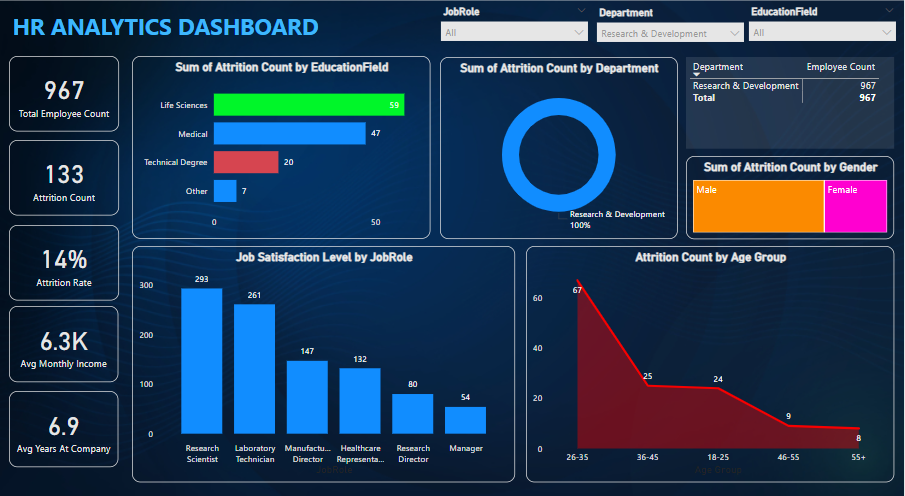

The page's visual inventory and layout, read from the dashboard file:
{"tool":"powerbi","page":{"name":"Page 1","canvas":[1280,720],"ordinal":0},"visuals":[{"type":"donutChart","fields":{"Category":["HR_Analytics.Department"],"Y":["Sum(HR_Analytics.Attrition Count)"]},"box":[623.3,85,336.7,258.3],"z":0},{"type":"barChart","fields":{"Category":["HR_Analytics.EducationField"],"Y":["Sum(HR_Analytics.Attrition Count)"]},"box":[187.1,84.3,422.9,258.6],"z":1000},{"type":"treemap","fields":{"Group":["HR_Analytics.Gender"],"Values":["Sum(HR_Analytics.Attrition Count)"]},"box":[971.7,225,295,118.3],"z":2000},{"type":"card","fields":{"Values":["Sum(HR_Analytics.Attrition Count)"]},"box":[12.9,202.9,155.7,107.1],"z":3000},{"type":"card","fields":{"Values":["HR_Analytics.Attrition Rate"]},"box":[12.9,322.9,155.7,107.1],"z":4000},{"type":"card","fields":{"Values":["Sum(HR_Analytics.EmployeeCount)"]},"box":[12.9,84.3,155.7,107.1],"z":5000},{"type":"card","fields":{"Values":["Avg(HR_Analytics.MonthlyIncome)"]},"box":[13.3,438.3,155,108.3],"z":6000},{"type":"columnChart","fields":{"Category":["HR_Analytics.JobRole"],"Y":["CountNonNull(HR_Analytics.JobSatisfaction)"]},"box":[186.7,353.3,543.3,335],"z":7000},{"type":"card","fields":{"Values":["Avg(HR_Analytics.YearsAtCompany)"]},"box":[13.3,558.3,155,108.3],"z":8000},{"type":"slicer","fields":{"Values":["HR_Analytics.JobRole"]},"box":[615,6.7,228.3,66.7],"z":9000},{"type":"pivotTable","fields":{"Rows":["HR_Analytics.Department"],"Values":["Sum(HR_Analytics.EmployeeCount)"]},"box":[971.7,85,295,130],"z":10000},{"type":"areaChart","fields":{"Category":["HR_Analytics.AgeGroup"],"Y":["Sum(HR_Analytics.Attrition Count)"]},"box":[745,353.3,521.7,335],"z":11000},{"type":"slicer","fields":{"Values":["HR_Analytics.Department"]},"box":[836,8,228,66],"z":12000},{"type":"slicer","fields":{"Values":["HR_Analytics.EducationField"]},"box":[1052,7,228,66],"z":13000},{"type":"textbox","box":[12.9,14.3,461.4,52.9],"z":14000}]}

Visuals, with their boxes in screenshot pixels (x1, y1, x2, y2), scaled from the page's 1280x720 canvas onto the 905x496 screenshot:
donutChart - HR_Analytics.Department x Sum(HR_Analytics.Attrition Count): box(441, 59, 679, 236)
barChart - HR_Analytics.EducationField x Sum(HR_Analytics.Attrition Count): box(132, 58, 431, 236)
treemap - HR_Analytics.Gender x Sum(HR_Analytics.Attrition Count): box(687, 155, 896, 236)
card - Sum(HR_Analytics.Attrition Count): box(9, 140, 119, 214)
card - HR_Analytics.Attrition Rate: box(9, 222, 119, 296)
card - Sum(HR_Analytics.EmployeeCount): box(9, 58, 119, 132)
card - Avg(HR_Analytics.MonthlyIncome): box(9, 302, 119, 377)
columnChart - HR_Analytics.JobRole x CountNonNull(HR_Analytics.JobSatisfaction): box(132, 243, 516, 474)
card - Avg(HR_Analytics.YearsAtCompany): box(9, 385, 119, 459)
slicer - HR_Analytics.JobRole: box(435, 5, 596, 51)
pivotTable - HR_Analytics.Department x Sum(HR_Analytics.EmployeeCount): box(687, 59, 896, 148)
areaChart - HR_Analytics.AgeGroup x Sum(HR_Analytics.Attrition Count): box(527, 243, 896, 474)
slicer - HR_Analytics.Department: box(591, 6, 752, 51)
slicer - HR_Analytics.EducationField: box(744, 5, 904, 50)
textbox: box(9, 10, 335, 46)
